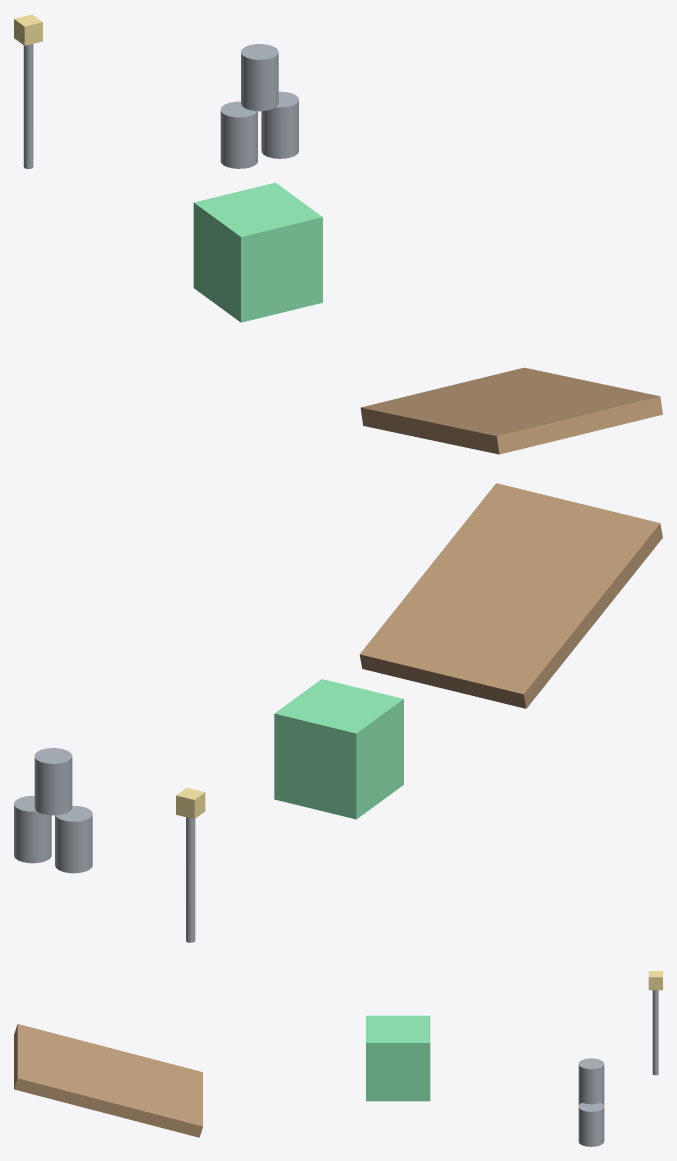
File: sandbox-props.glb
3 views of the same model, one above another, from view 1: azimuth 30°, elevation 25°; view 2: azimuth 150°, elevation 25°; view 3: azimuth 270°, elevation 25° (orthographic). The views are drawn at different scales.
Parts seen in each view (by area): view 1: Ramp, Goal, Barrel.003, Barrel.002, Barrel.001, PostMesh, Lamp.Bulb; view 2: Ramp, Goal, Barrel.003, Barrel.002, Barrel.001, PostMesh, Lamp.Bulb; view 3: Ramp, Goal, Barrel.003, Barrel.001, PostMesh, Lamp.Bulb.
Part boxes in pixels (<box>): Ramp: <box>360,367,662,454</box>; Goal: <box>193,182,322,322</box>; Barrel.003: <box>241,44,278,111</box>; Barrel.002: <box>220,101,257,168</box>; Barrel.001: <box>261,91,298,158</box>; PostMesh: <box>23,44,33,168</box>; Lamp.Bulb: <box>14,14,42,45</box>; Ramp: <box>359,483,662,708</box>; Goal: <box>274,679,403,819</box>; Barrel.003: <box>34,748,72,815</box>; Barrel.002: <box>55,806,92,873</box>; Barrel.001: <box>14,796,51,863</box>; PostMesh: <box>186,817,195,942</box>; Lamp.Bulb: <box>176,788,205,819</box>; Ramp: <box>14,1024,202,1137</box>; Goal: <box>366,1015,430,1101</box>; Barrel.003: <box>578,1058,604,1104</box>; Barrel.001: <box>578,1102,604,1146</box>; PostMesh: <box>652,990,658,1075</box>; Lamp.Bulb: <box>648,971,662,990</box>.
Size of the model in its own units: 5.63 by 3.75 by 20.16.
